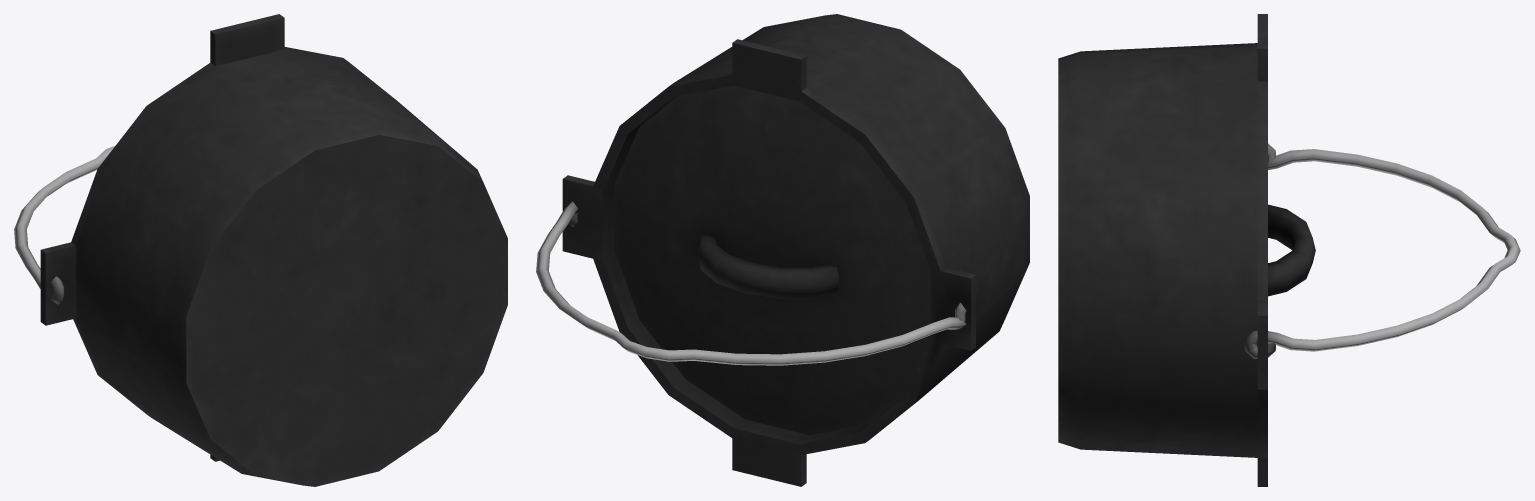
The model's file is DutchOven_empty.fbx.
3 views of the same model, side by side, from view 1: azimuth 30°, elevation 25°; view 2: azimuth 150°, elevation 25°; view 3: azimuth 270°, elevation 25° (orthographic). The views are drawn at different scales.
Visible parts, largest first — view 1: DutchOven, DutchOven_Handle; view 2: DutchOven_Lid, DutchOven, DutchOven_Handle; view 3: DutchOven, DutchOven_Handle, DutchOven_Lid.
Part boxes in pixels (x1=…): DutchOven: x1=40, y1=14, x2=507, y2=486; DutchOven_Handle: x1=14, y1=145, x2=115, y2=304; DutchOven_Lid: x1=615, y1=85, x2=930, y2=435; DutchOven: x1=562, y1=14, x2=1029, y2=486; DutchOven_Handle: x1=536, y1=201, x2=966, y2=365; DutchOven: x1=1058, y1=14, x2=1267, y2=486; DutchOven_Handle: x1=1245, y1=143, x2=1520, y2=358; DutchOven_Lid: x1=1268, y1=204, x2=1315, y2=296.
Size of the model in its own units: 0.4033 by 0.4033 by 0.3856.
